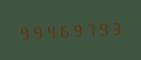four: (43, 21, 55, 40)
nine: (17, 22, 29, 42), (95, 18, 107, 38), (30, 22, 42, 41), (69, 20, 81, 39)
seven: (82, 19, 94, 38)
six: (56, 20, 68, 40)
three: (108, 18, 120, 37)
